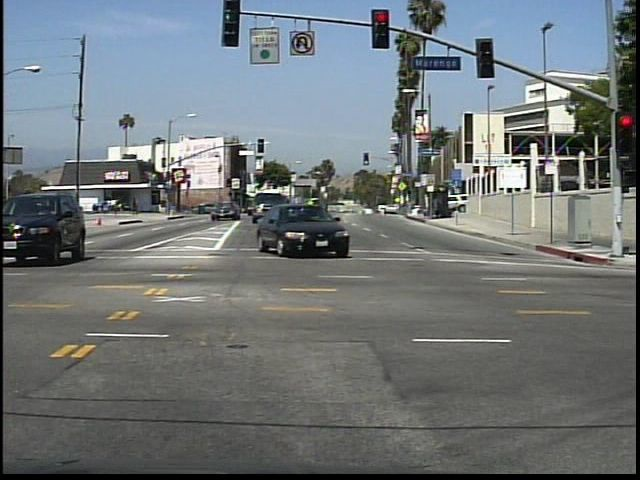person: (131, 195, 142, 219)
